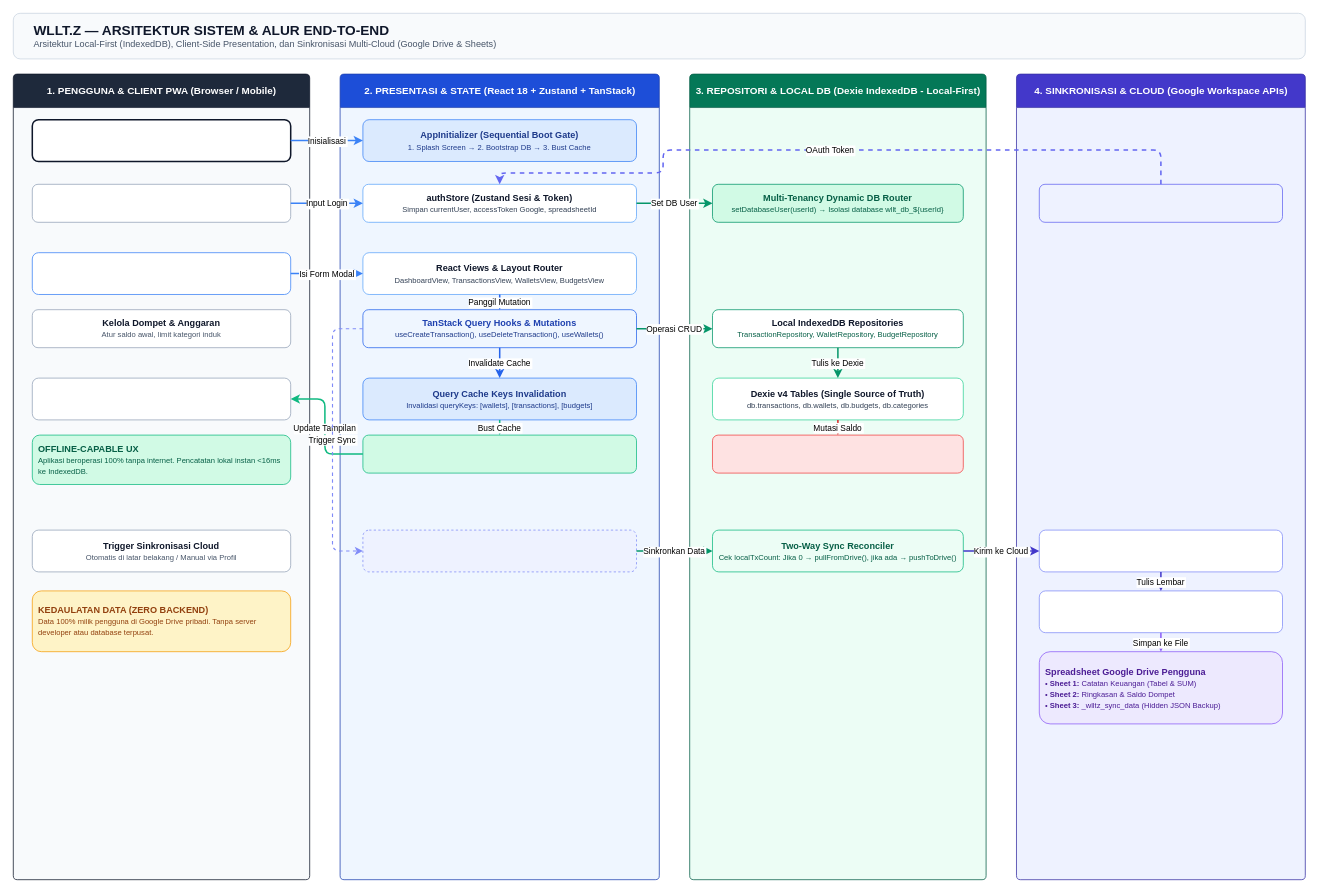
The diagram is 1319 pixels wide and 893 high, and some of its shapes have lost their labels. The centre of each missing label's shape, as x and y in pixels:
Asynchronous Cloud Trigger GoogleSheetsRepository.sync() terpanggil non-blocking: point 499,550
Financial Integrity Engine Delta saldo dompet seimbang & akumulasi budget induk: point 837,453
Google Drive API v3 Cari / Buat Spreadsheet "Catatan Keuangan Saya - Wllt.z": point 1160,550
Google Identity Services (GIS) OAuth 2.0 Token Client (Scope: drive.file): point 1160,203
Google Sheets API v4 Tulis tabel terformat, formula SUM, header Emerald Green: point 1160,611
Input Transaksi Baru Nominal, Kategori, Dompet, Jenis Mutasi: point 161,273
Login / Registrasi Akun Login Google One-Tap atau Akun Lokal: point 161,203
Pantau Laporan & Net Worth Grafik Arus Kas, Budget Progress, Tren Saldo: point 161,398
Pengguna (User) Buka PWA Standalone / Browser Mobile: point 161,140
Re-render Antarmuka Reaktif Saldo dompet & riwayat transaksi terbarui otomatis: point 499,453
